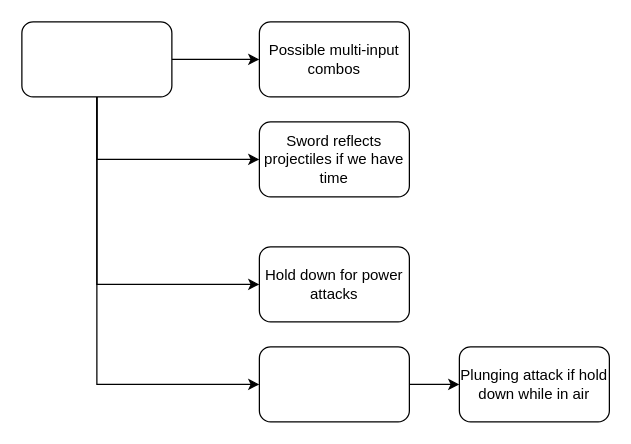
Some shapes in this 631 by 444 pixel diagram are drawn without their labels. Each missing label, with the centre of its shape:
"Attacks using arrow keys, L/R/U/D, independent of movement direction" belongs at pixel 96 59.
"Special moves with certain inputs" belongs at pixel 333 384.
